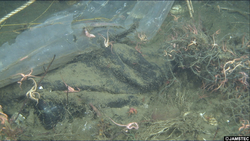plastic bag: (1, 2, 178, 88), (32, 40, 167, 128)
